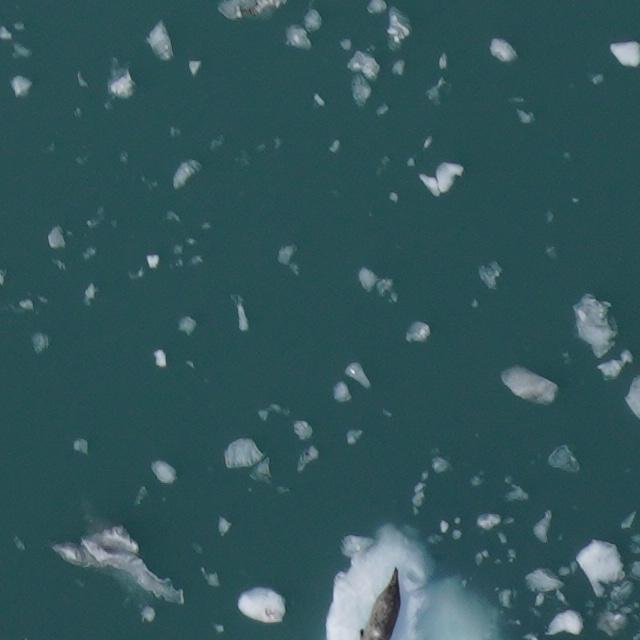seal: (355, 561, 411, 640)
